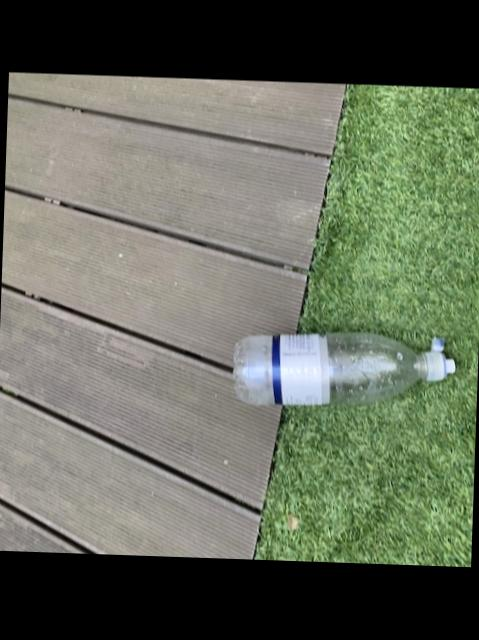plastic: (231, 334, 452, 406)
